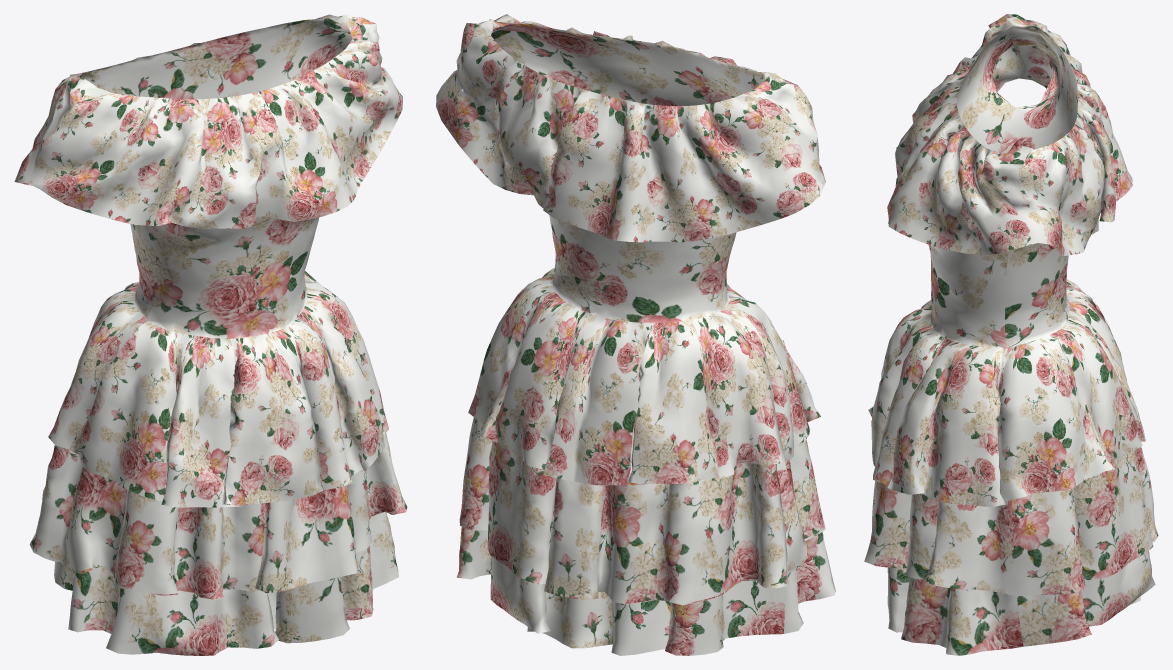
Rendered from Final Completed.fbx.
3 renders of one model, left to right at view 1: azimuth 30°, elevation 25°; view 2: azimuth 150°, elevation 25°; view 3: azimuth 270°, elevation 25°, orthographic. The views are drawn at different scales.
Visible parts, largest first — view 1: to max from substance; view 2: to max from substance; view 3: to max from substance.
Boxes of the visible parts, x1,y1,x2,y2 form: to max from substance: [14, 14, 407, 655]; to max from substance: [436, 14, 835, 655]; to max from substance: [864, 14, 1158, 655].
Size of the model in its own units: 57.32 by 81.23 by 41.27.
Materials: 5 (5 with a texture image).
